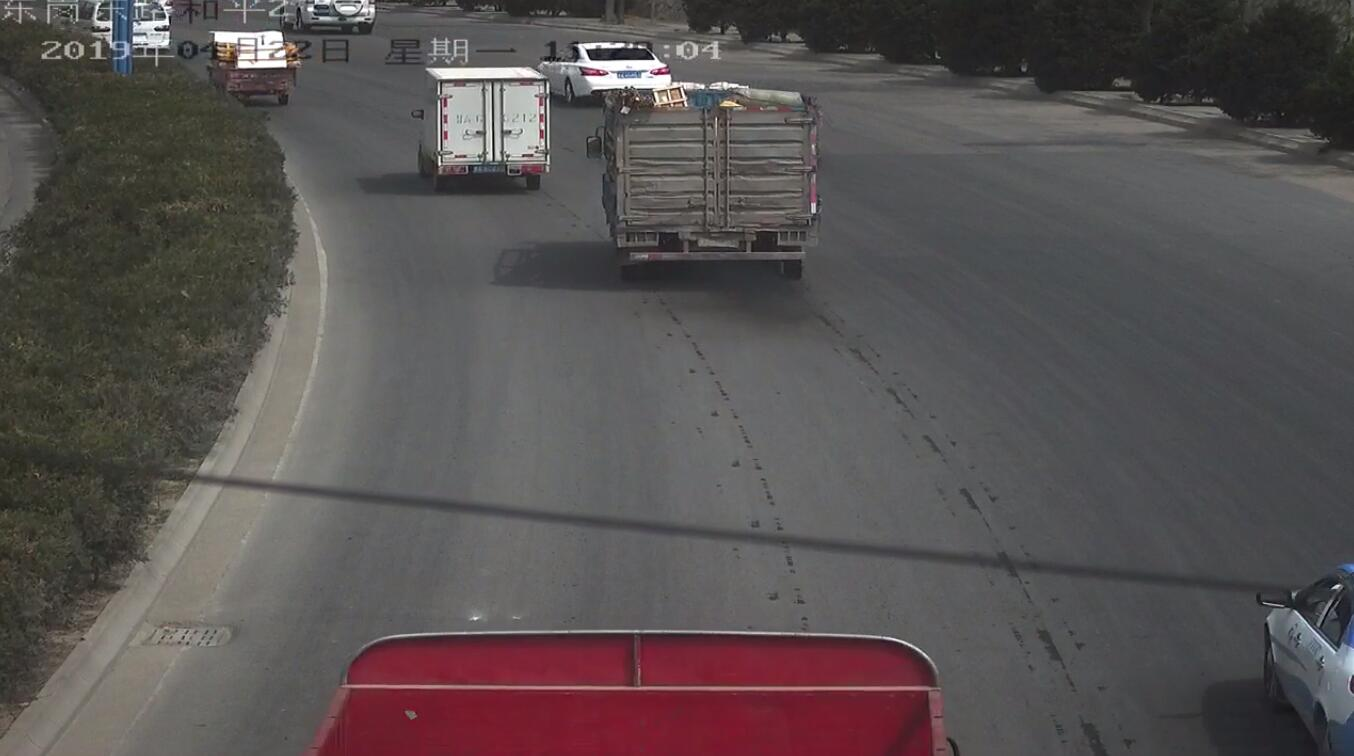yanwu: (709, 246, 831, 330)
